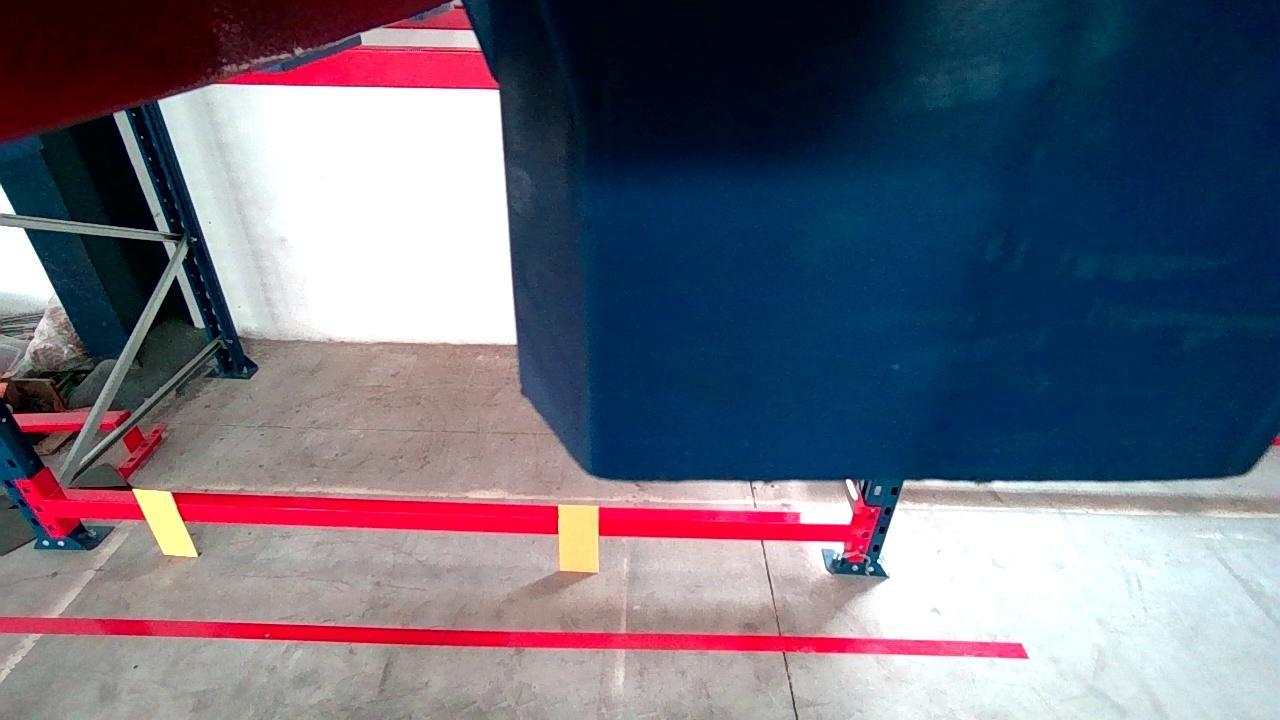h_rack: (42, 501, 852, 542)
orange_strip: (134, 490, 196, 558), (559, 504, 598, 571)
red_line: (0, 615, 1027, 657)
